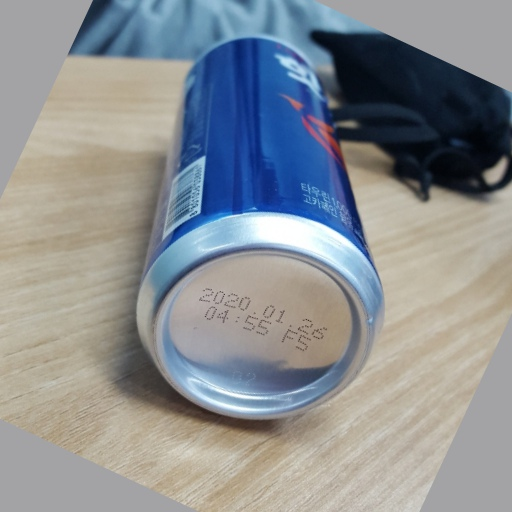Metal_0: (134, 32, 385, 420)
